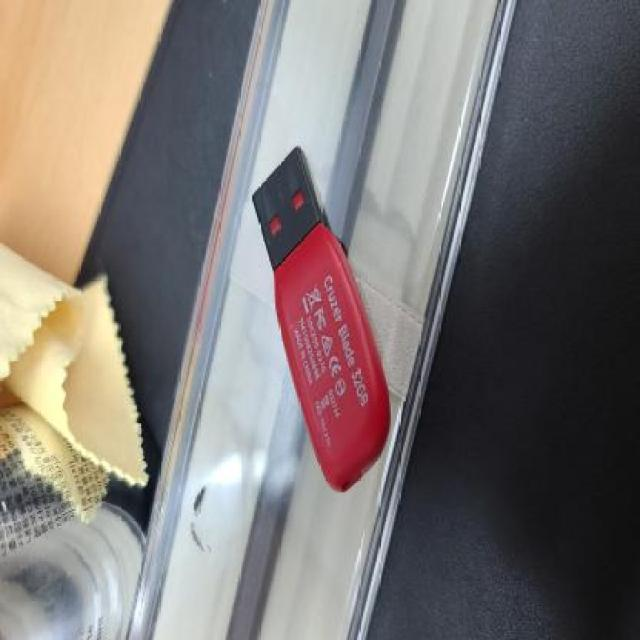Flashdisk: (251, 144, 392, 496)
